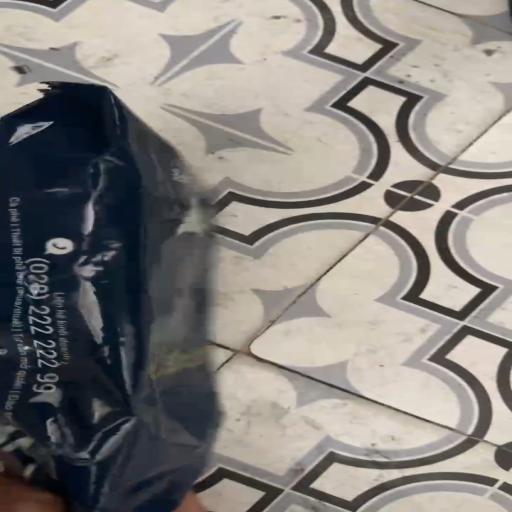cafe_hat: (0, 82, 219, 512)
